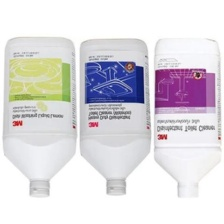cleaning_solution: (0, 33, 79, 199), (148, 33, 224, 200), (76, 35, 152, 197)
